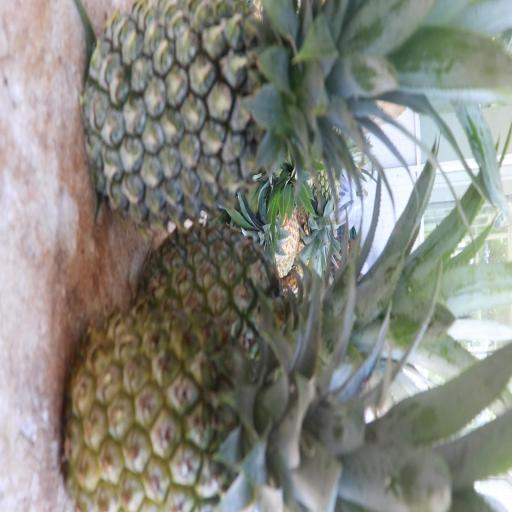------------------------------: (58, 294, 390, 512), (134, 222, 359, 383)
